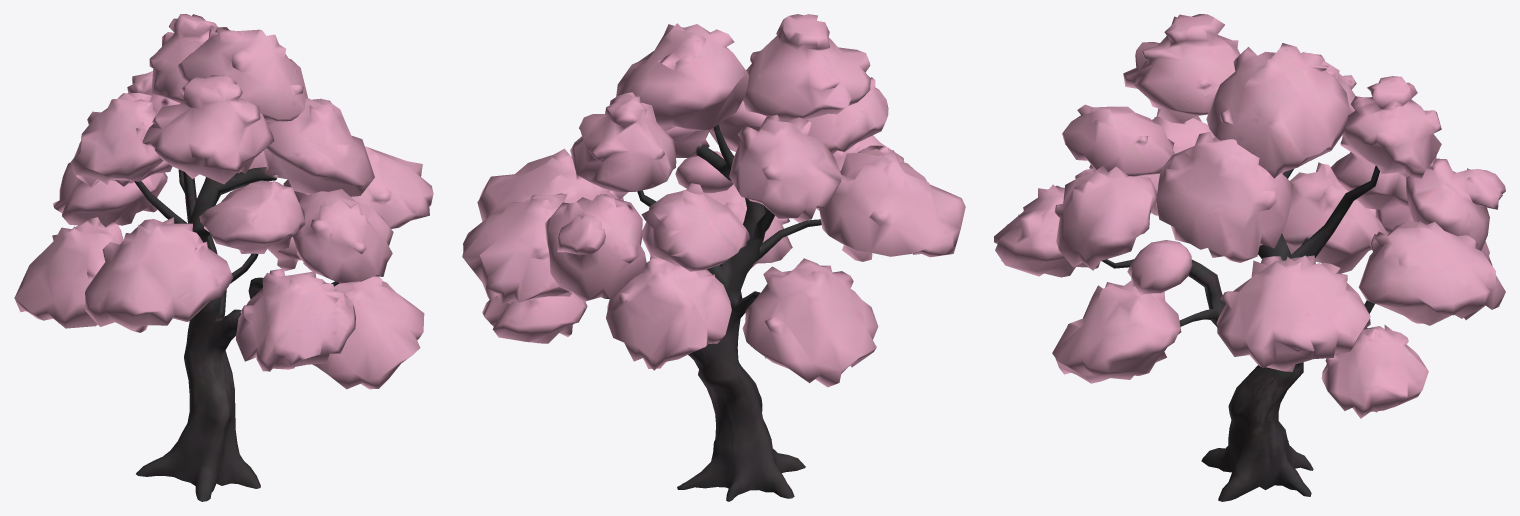
File: sakura.glb
The picture shows the model from 3 angles, left to right: view 1: azimuth 30°, elevation 25°; view 2: azimuth 150°, elevation 25°; view 3: azimuth 270°, elevation 25°; orthographic projection. The views are drawn at different scales.
Visible parts, largest first — view 1: tripo_node_ee6ee8fe-981f-4310-9ac4-f272ef755bf3; view 2: tripo_node_ee6ee8fe-981f-4310-9ac4-f272ef755bf3; view 3: tripo_node_ee6ee8fe-981f-4310-9ac4-f272ef755bf3.
Boxes of the visible parts, bbox=[...] form: tripo_node_ee6ee8fe-981f-4310-9ac4-f272ef755bf3: bbox=[14, 14, 433, 501]; tripo_node_ee6ee8fe-981f-4310-9ac4-f272ef755bf3: bbox=[462, 14, 965, 501]; tripo_node_ee6ee8fe-981f-4310-9ac4-f272ef755bf3: bbox=[994, 14, 1505, 501].
Size of the model in its own units: 0.9238 by 0.9786 by 0.998.
Materials: 1 (1 with a texture image).
